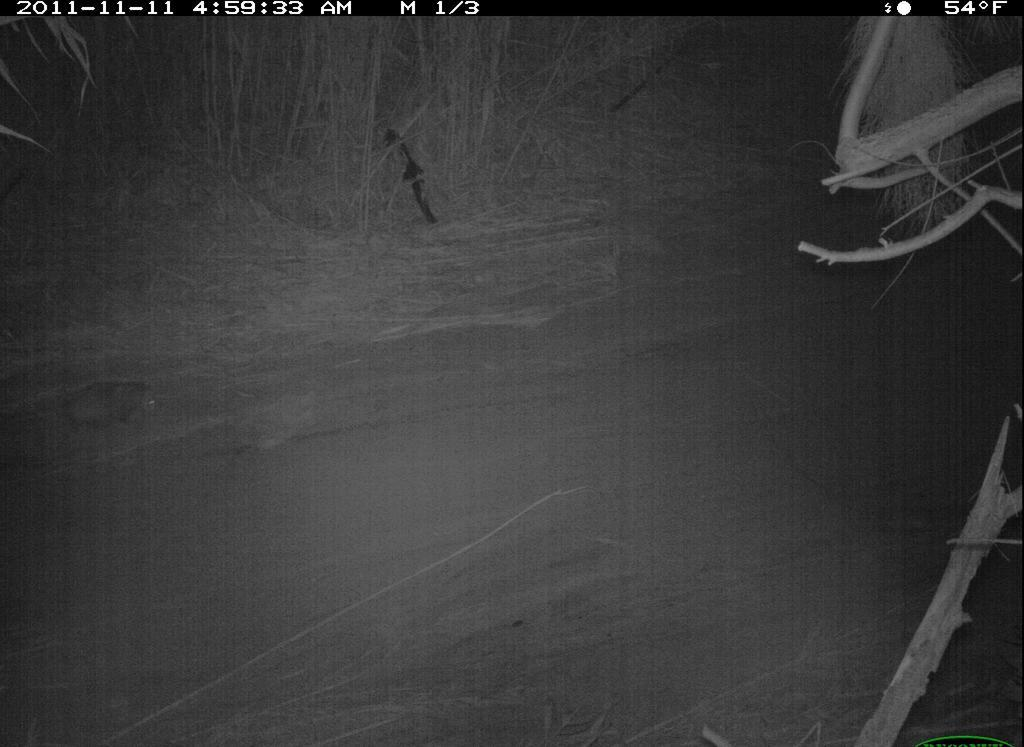opossum: (29, 351, 167, 451)
